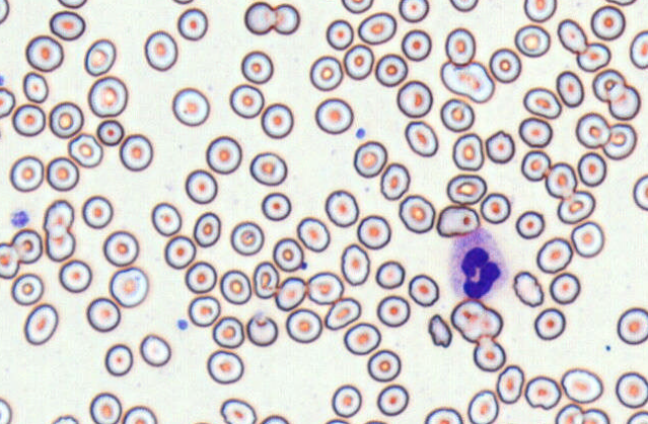GRAN: (444, 225, 513, 304)
PLT: (8, 209, 30, 229), (177, 317, 188, 332), (355, 126, 367, 139)
RBC: (450, 299, 502, 343), (87, 75, 128, 117), (108, 266, 148, 307), (560, 367, 603, 403), (171, 87, 209, 126), (23, 303, 58, 345), (25, 34, 63, 72), (398, 194, 435, 233), (314, 97, 353, 134), (205, 135, 242, 174), (143, 30, 178, 71), (396, 79, 432, 118), (536, 236, 573, 273), (48, 100, 84, 138), (556, 189, 595, 224), (102, 230, 139, 266), (575, 111, 610, 149), (602, 122, 637, 160), (206, 349, 244, 384), (324, 189, 359, 227), (249, 151, 287, 186), (67, 132, 103, 168), (285, 308, 322, 343), (9, 155, 44, 192), (343, 321, 381, 355), (353, 140, 387, 178), (119, 133, 153, 171), (522, 86, 561, 119), (357, 11, 396, 44), (446, 173, 486, 205), (340, 243, 370, 285), (85, 296, 120, 332), (590, 4, 625, 40), (472, 335, 506, 372), (324, 296, 361, 330), (570, 220, 604, 257), (306, 271, 343, 305), (404, 120, 438, 157), (607, 82, 640, 120), (83, 38, 116, 76), (444, 27, 476, 66), (452, 132, 484, 171), (356, 214, 391, 249), (439, 97, 474, 132), (229, 83, 264, 118), (296, 216, 330, 252), (309, 55, 343, 91), (260, 102, 293, 139), (545, 161, 577, 199), (366, 348, 401, 382), (230, 220, 264, 255), (184, 168, 217, 204), (514, 24, 550, 57), (488, 47, 521, 83), (512, 270, 544, 307), (615, 371, 647, 408), (616, 307, 647, 345), (379, 162, 410, 200), (495, 364, 524, 404), (592, 68, 626, 102), (58, 259, 92, 293), (163, 234, 196, 269), (46, 156, 79, 191), (219, 269, 251, 305), (343, 43, 374, 80), (10, 272, 44, 305), (376, 294, 410, 327), (240, 50, 273, 84), (11, 103, 45, 136), (374, 53, 407, 87), (10, 228, 42, 263), (272, 237, 304, 272), (184, 260, 217, 293), (467, 389, 499, 423), (518, 116, 552, 148), (139, 333, 171, 367), (81, 195, 113, 229), (44, 226, 75, 261), (275, 276, 306, 311), (576, 41, 611, 72), (557, 18, 587, 54), (49, 10, 85, 40), (555, 70, 584, 107), (533, 307, 565, 340), (376, 383, 408, 416), (244, 1, 276, 34), (212, 315, 244, 348), (187, 295, 220, 327), (43, 199, 74, 233), (252, 260, 279, 299), (151, 201, 181, 236), (577, 151, 606, 187), (331, 384, 362, 417), (549, 271, 580, 304), (408, 273, 439, 306), (89, 392, 122, 423), (177, 7, 208, 40), (193, 211, 221, 247), (401, 28, 431, 61), (219, 397, 256, 423), (520, 149, 550, 181), (480, 192, 510, 224), (104, 343, 133, 376), (375, 259, 405, 289), (261, 191, 291, 221), (325, 18, 353, 50), (515, 210, 545, 239), (273, 3, 300, 34), (22, 71, 48, 103), (96, 119, 124, 146), (523, 0, 556, 22), (629, 29, 647, 69), (0, 242, 19, 279), (398, 0, 429, 22), (423, 406, 463, 423), (121, 405, 157, 423), (554, 403, 583, 423), (632, 173, 647, 211), (0, 86, 15, 118), (581, 408, 609, 423), (341, 0, 373, 13), (449, 0, 478, 12), (0, 397, 12, 423), (626, 410, 647, 423), (259, 414, 289, 423), (57, 0, 87, 9), (50, 414, 79, 423), (0, 0, 9, 24), (605, 0, 636, 6), (324, 417, 349, 423), (363, 419, 388, 424), (172, 0, 194, 4), (0, 72, 5, 87), (190, 421, 214, 424)
Schistocyte: (440, 59, 495, 103), (437, 205, 480, 237), (525, 376, 561, 411), (485, 130, 515, 165), (427, 312, 454, 349), (247, 316, 277, 347)
